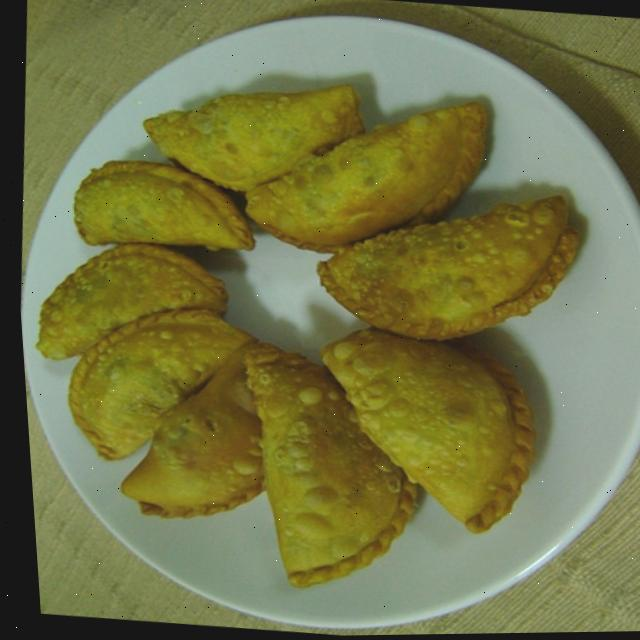炸货点心: (1, 18, 640, 625)
